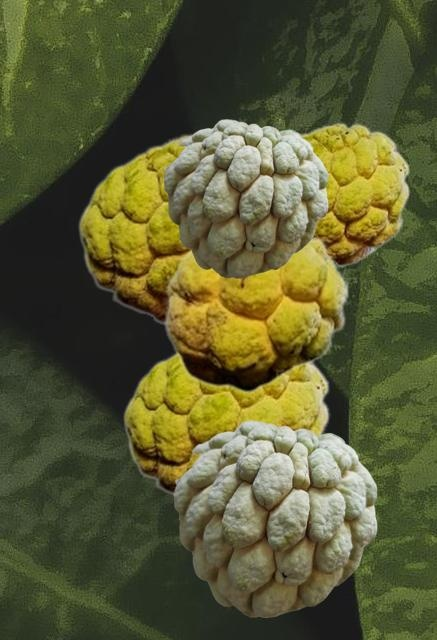atis: (173, 420, 376, 616), (122, 352, 329, 495), (163, 233, 348, 392), (163, 119, 327, 277), (77, 131, 195, 324), (301, 122, 409, 266)
